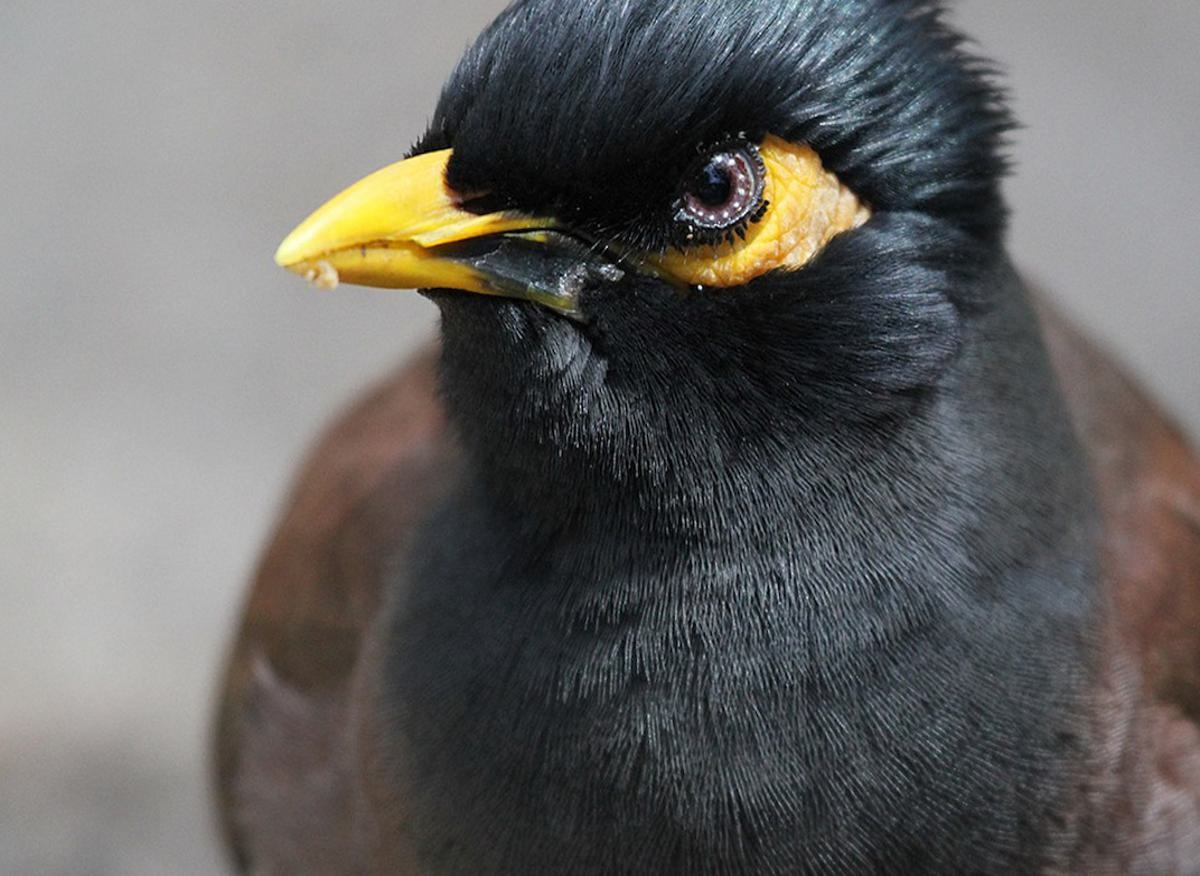myna: (303, 20, 1104, 803)
